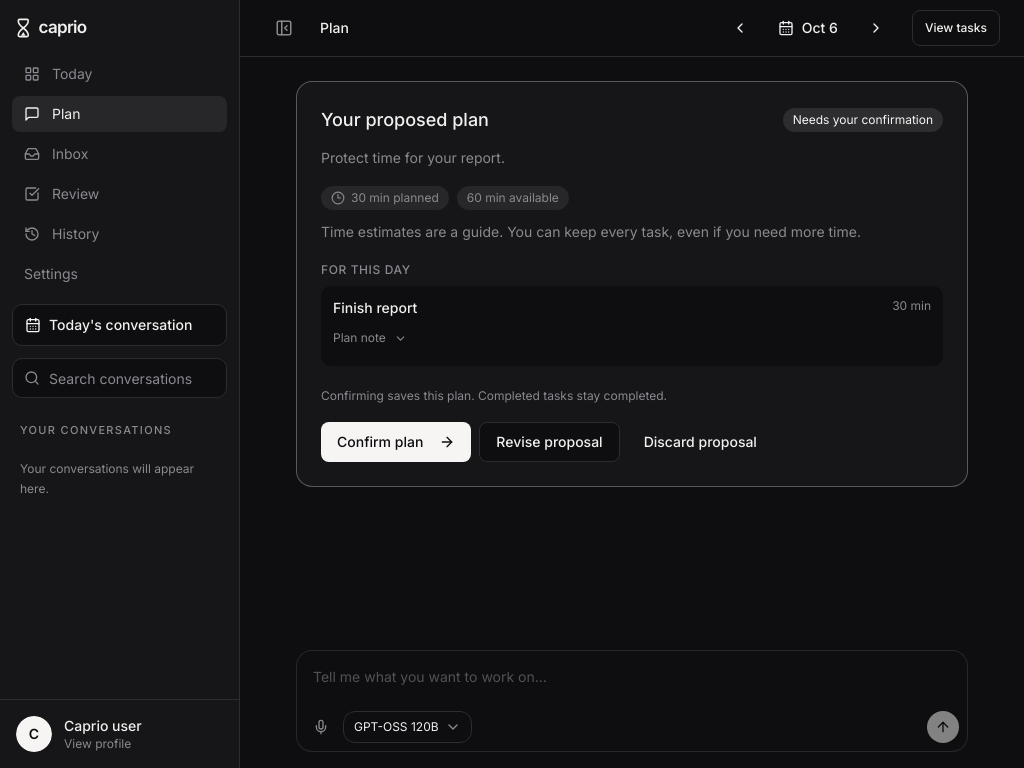
Scenario: Daily planning workflow › discards a proposal through the server without confirming tasks
Click the button "Discard proposal". click: (700, 442)
box: [628, 422, 773, 462]
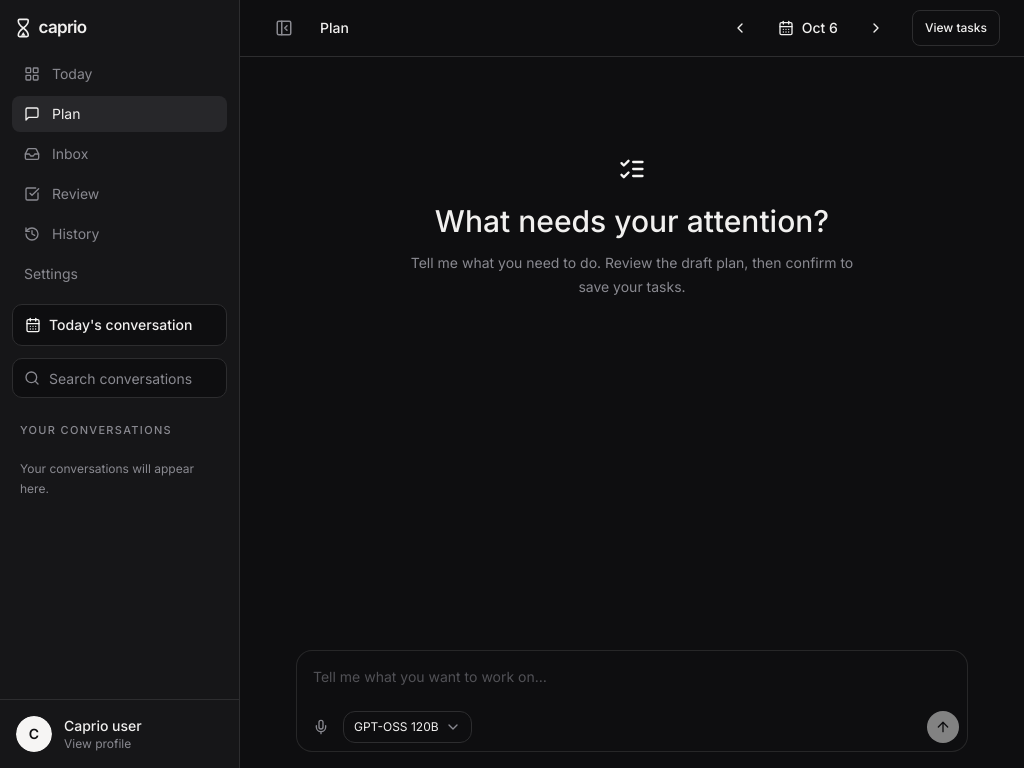
expect the heading "proposed plan" is gone: met
